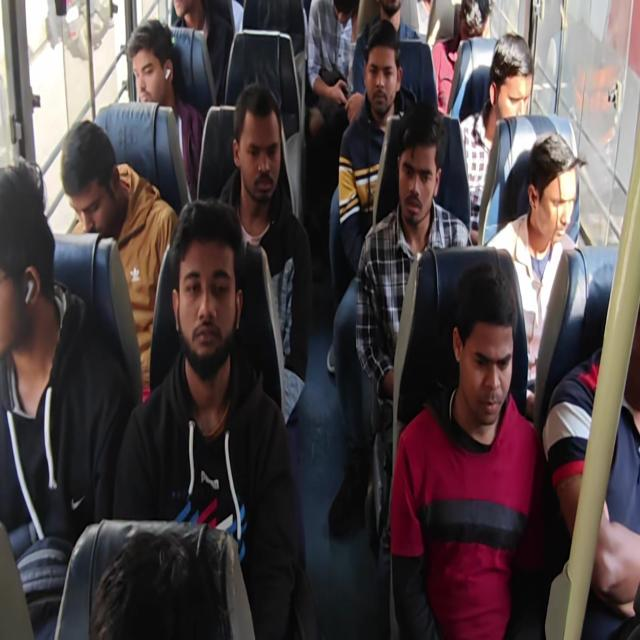person: (66, 506, 223, 640), (162, 206, 238, 375), (0, 153, 51, 368), (450, 297, 511, 442), (59, 130, 119, 236), (235, 100, 283, 214), (532, 155, 580, 251), (492, 36, 534, 139), (392, 131, 434, 230), (126, 36, 170, 119), (358, 46, 399, 113), (458, 0, 490, 76), (165, 0, 202, 33), (371, 0, 404, 27)
